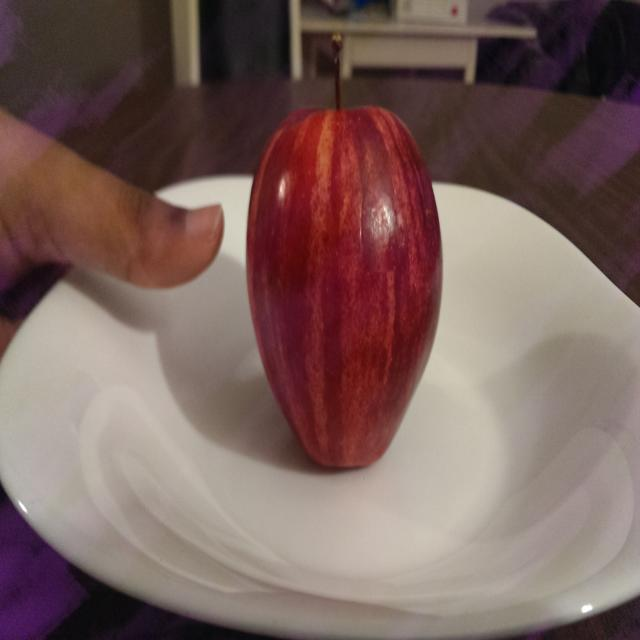apple: (241, 28, 454, 479)
